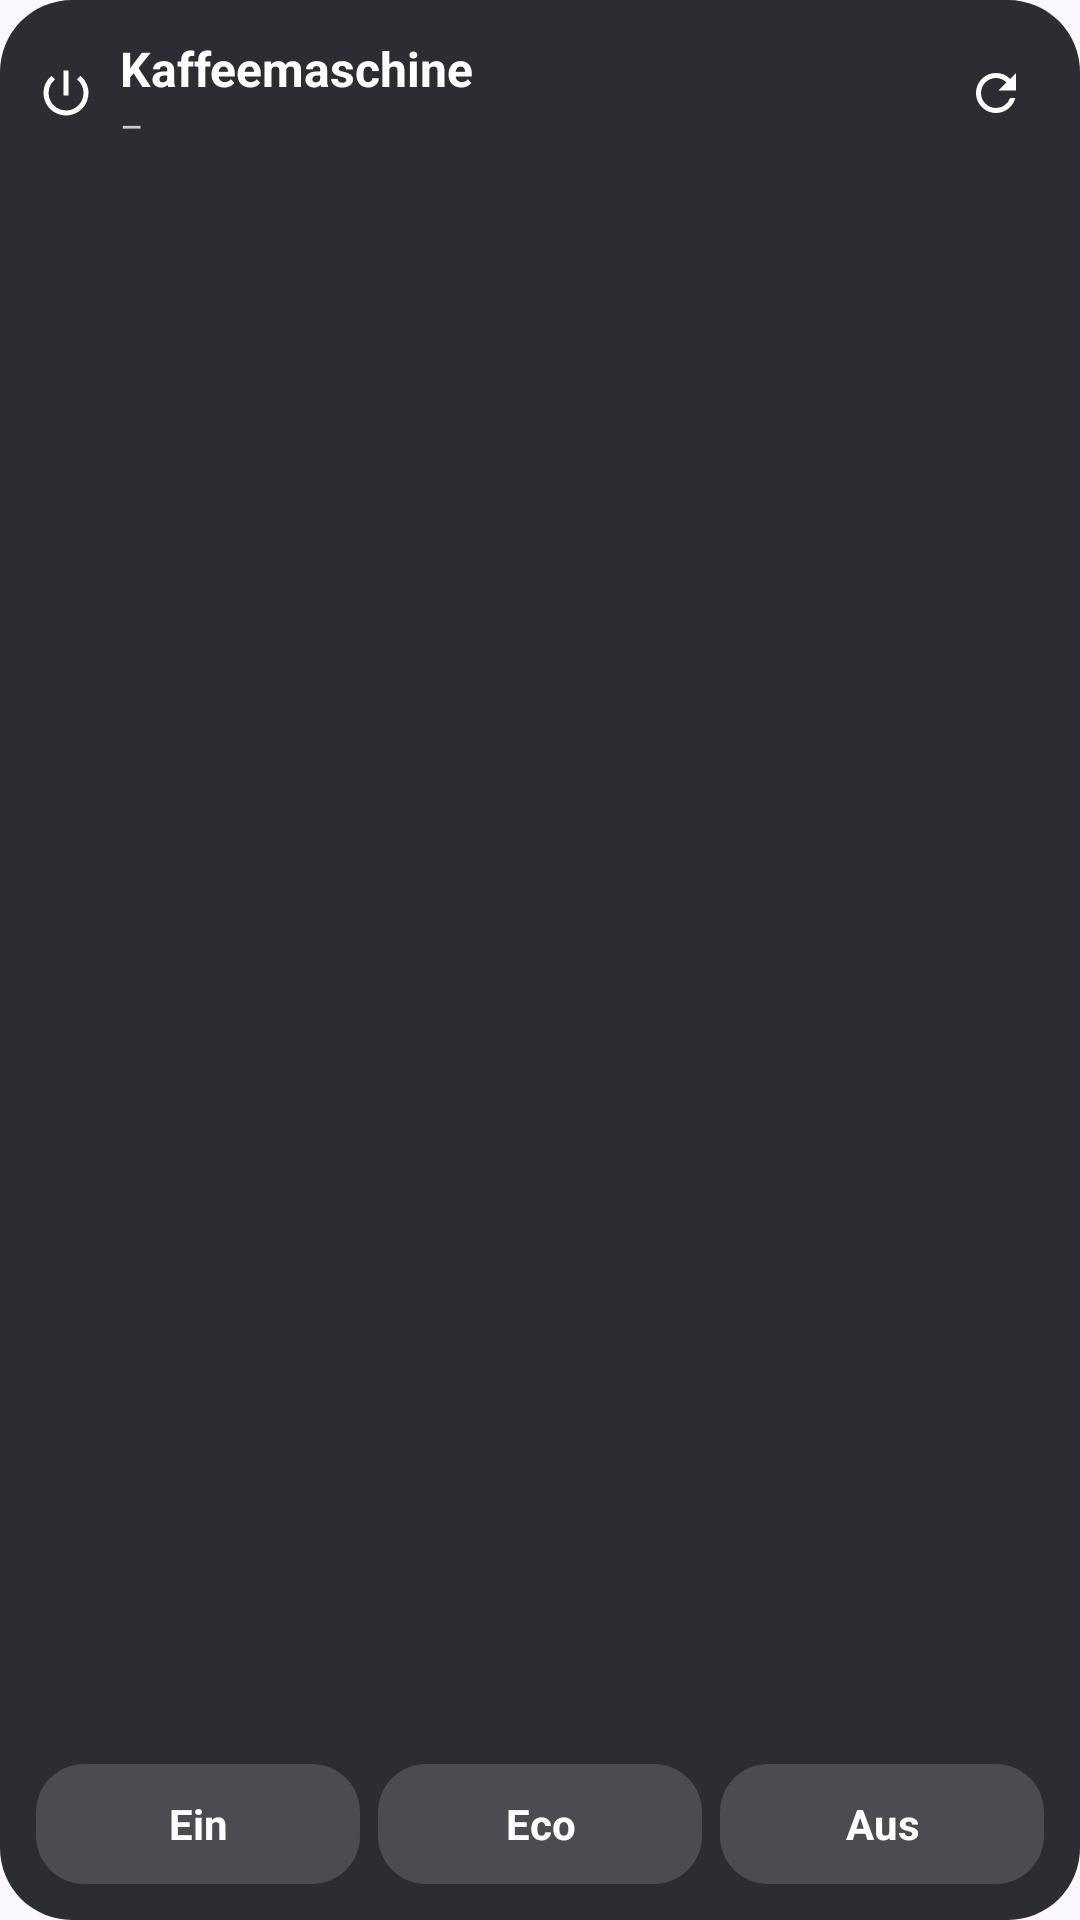

Icon bounding boxes for this 1080 × 1920 phone screenshot, format (left=x1, top=y1, right=x2, bottom=y2):
Aktualisieren: (left=976, top=73, right=1016, bottom=113)
power: (left=43, top=70, right=89, bottom=116)
